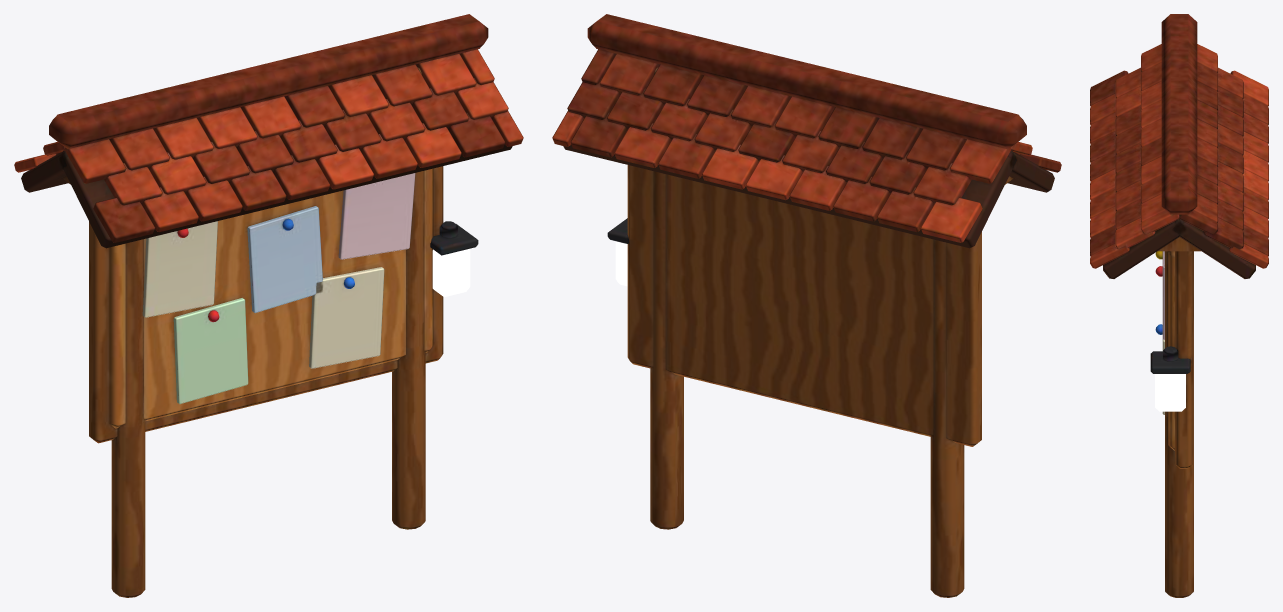
The model's file is board.glb.
3 renders of one model, left to right at view 1: azimuth 30°, elevation 25°; view 2: azimuth 150°, elevation 25°; view 3: azimuth 270°, elevation 25°, orthographic. The views are drawn at different scales.
Visible parts, largest first — view 1: board; view 2: board; view 3: board.
Boxes of the visible parts, <box> form: board: <box>14,14,523,597</box>; board: <box>552,14,1061,597</box>; board: <box>1090,14,1268,597</box>.
Size of the model in its own units: 0.98 by 1.07 by 0.4025.
1 material, 1 textured.
